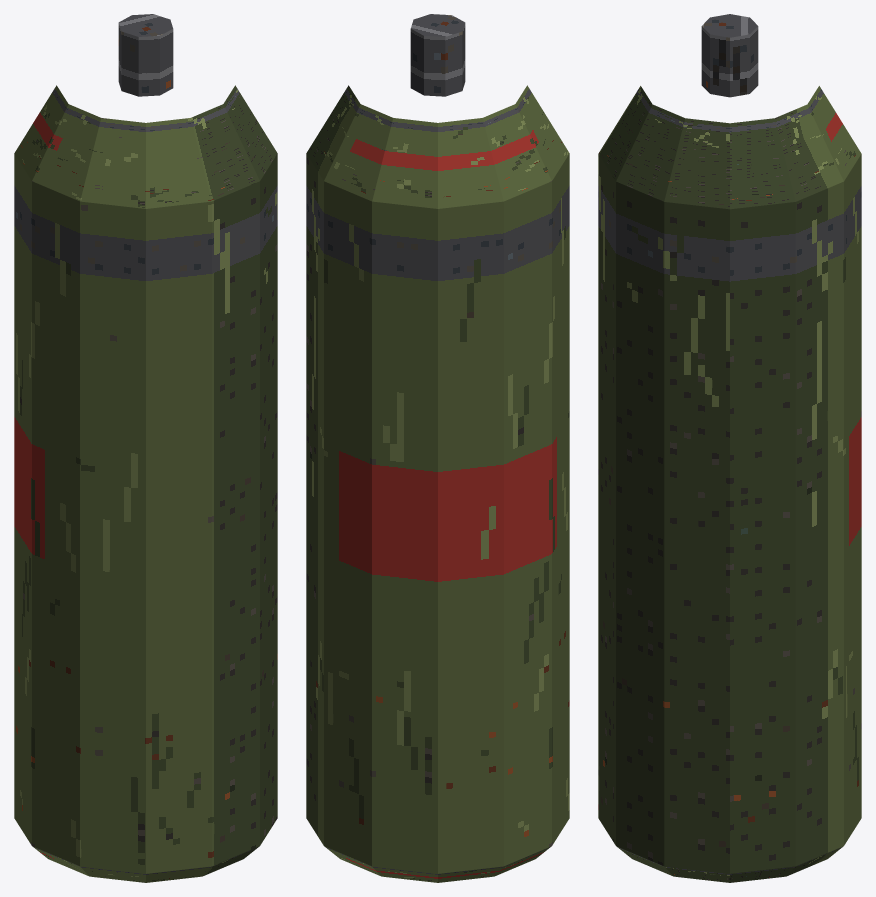
Rendered from SM_Prop_GasCylinder_01.glb.
3 renders of one model, left to right at view 1: azimuth 30°, elevation 25°; view 2: azimuth 150°, elevation 25°; view 3: azimuth 270°, elevation 25°, orthographic.
Parts seen in each view (by area): view 1: SM_Prop_GasCylinder_01; view 2: SM_Prop_GasCylinder_01; view 3: SM_Prop_GasCylinder_01.
Boxes of the visible parts, x1=… form: SM_Prop_GasCylinder_01: x1=14, y1=14, x2=277, y2=882; SM_Prop_GasCylinder_01: x1=306, y1=14, x2=569, y2=882; SM_Prop_GasCylinder_01: x1=598, y1=14, x2=861, y2=882.
Size of the model in its own units: 0.28 by 0.95 by 0.28.
1 material, 1 textured.
